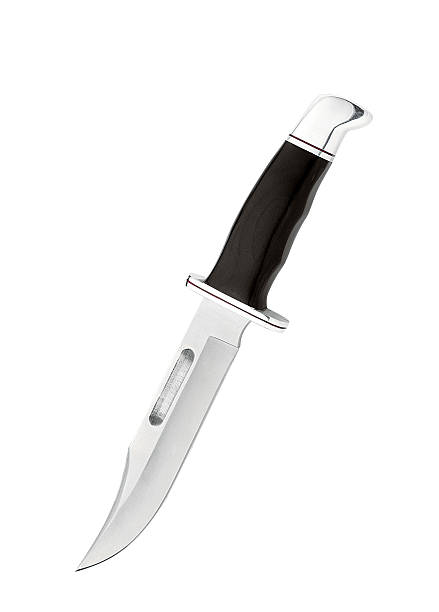knife: (75, 93, 376, 571)
